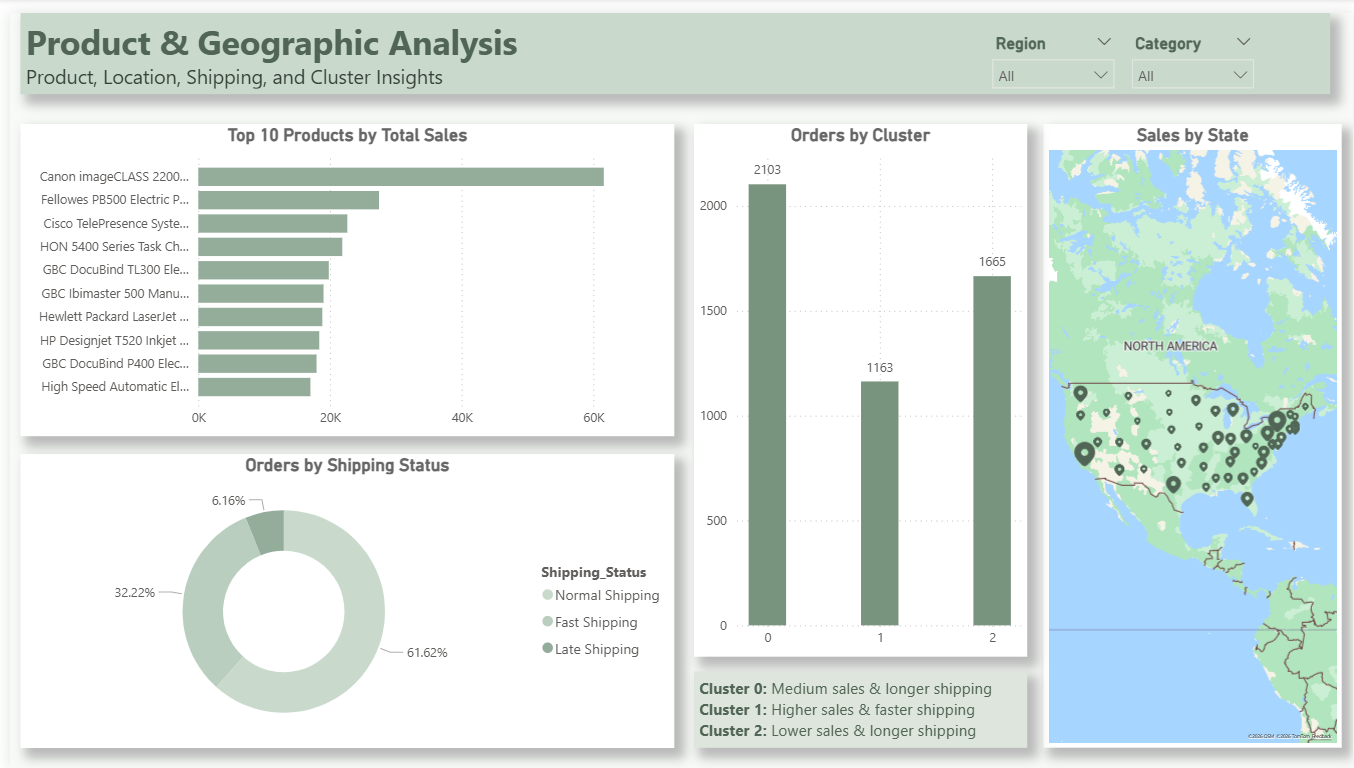

The page's visual inventory and layout, read from the dashboard file:
{"tool":"powerbi","page":{"name":"Product & Order Analysis","canvas":[1280,720],"ordinal":1},"visuals":[{"type":"textbox","box":[10,0,1247.1,77.1],"z":0},{"type":"azureMap","title":"Sales by State","fields":{"Category":["Superstore_Sales_Cleaned.State"],"Size":["Superstore_Sales_Cleaned.Total Sales"]},"box":[984.3,105.7,284.3,594.3],"z":1000},{"type":"clusteredBarChart","title":"Top 10 Products by Total Sales","fields":{"Category":["Superstore_Sales_Cleaned.Product_Name"],"Y":["Superstore_Sales_Cleaned.Total Sales"]},"box":[10,105.7,622.9,297.1],"z":2000},{"type":"donutChart","title":"Orders by Shipping Status","fields":{"Category":["Superstore_Sales_Cleaned.Shipping_Status"],"Y":["Superstore_Sales_Cleaned.Total Orders"]},"box":[10,420,622.9,280],"z":3000},{"type":"clusteredColumnChart","title":"Orders by Cluster","fields":{"Category":["Superstore_Sales_Cleaned.Cluster"],"Y":["Superstore_Sales_Cleaned.Total Orders"]},"box":[651.4,105.7,317.1,507.1],"z":4000},{"type":"slicer","fields":{"Values":["Superstore_Sales_Cleaned.Region"]},"box":[925.7,14.3,135.7,64.3],"z":5000},{"type":"slicer","fields":{"Values":["Superstore_Sales_Cleaned.Category"]},"box":[1058.6,14.3,135.7,64.3],"z":5001},{"type":"textbox","box":[651.4,627.1,317.1,72.9],"z":5002}]}

Visuals, with their boxes in screenshot pixels (x1, y1, x2, y2), scaled from the page's 1280x720 canvas onto the 1354x768 screenshot:
textbox: BBox(11, 0, 1330, 82)
"Sales by State" azureMap: BBox(1041, 113, 1342, 747)
"Top 10 Products by Total Sales" clusteredBarChart: BBox(11, 113, 669, 430)
"Orders by Shipping Status" donutChart: BBox(11, 448, 669, 747)
"Orders by Cluster" clusteredColumnChart: BBox(689, 113, 1024, 654)
slicer - Superstore_Sales_Cleaned.Region: BBox(979, 15, 1123, 84)
slicer - Superstore_Sales_Cleaned.Category: BBox(1120, 15, 1263, 84)
textbox: BBox(689, 669, 1024, 747)
